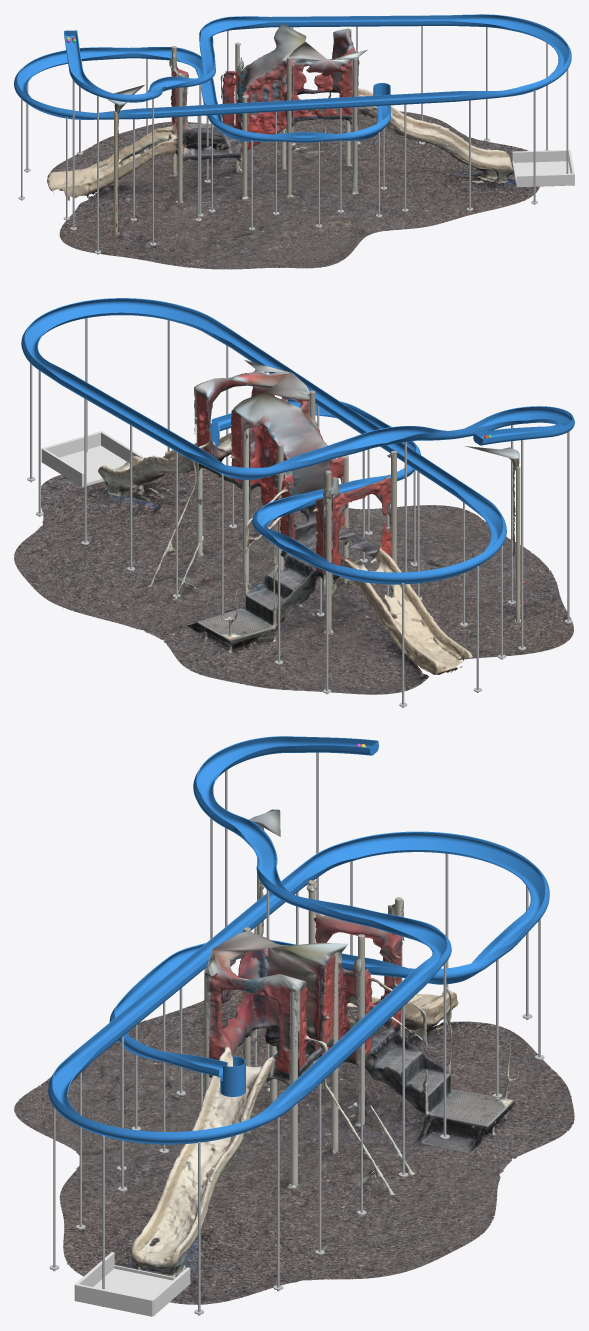
File: playground.glb
3 renders of one model, top to bottom at view 1: azimuth 30°, elevation 25°; view 2: azimuth 150°, elevation 25°; view 3: azimuth 270°, elevation 25°, orthographic. The views are drawn at different scales.
Visible parts, largest first — view 1: SM_Ground_LOD0, SM_PlayStructure_LOD0, SM_MarbleTrack_LOD0, SM_MarbleSupports, SM_MarbleFinishTray; view 2: SM_Ground_LOD0, SM_PlayStructure_LOD0, SM_MarbleTrack_LOD0, SM_MarbleSupports, SM_MarbleFinishTray; view 3: SM_Ground_LOD0, SM_PlayStructure_LOD0, SM_MarbleTrack_LOD0, SM_MarbleSupports, SM_MarbleFinishTray, SM_MarbleDropWell.
Part boxes in pixels (bbox=[...]): SM_Ground_LOD0: bbox=[50, 111, 539, 269]; SM_PlayStructure_LOD0: bbox=[47, 23, 514, 262]; SM_MarbleTrack_LOD0: bbox=[14, 14, 571, 142]; SM_MarbleSupports: bbox=[18, 26, 568, 254]; SM_MarbleFinishTray: bbox=[512, 149, 574, 187]; SM_Ground_LOD0: bbox=[14, 459, 573, 694]; SM_PlayStructure_LOD0: bbox=[63, 360, 540, 674]; SM_MarbleTrack_LOD0: bbox=[21, 298, 574, 584]; SM_MarbleSupports: bbox=[27, 318, 572, 707]; SM_MarbleFinishTray: bbox=[41, 431, 142, 487]; SM_Ground_LOD0: bbox=[14, 990, 574, 1304]; SM_PlayStructure_LOD0: bbox=[75, 809, 518, 1269]; SM_MarbleTrack_LOD0: bbox=[48, 736, 549, 1144]; SM_MarbleSupports: bbox=[49, 752, 544, 1315]; SM_MarbleFinishTray: bbox=[74, 1252, 190, 1316]; SM_MarbleDropWell: bbox=[220, 1056, 245, 1096].
Bounding box in the file's own units: 13.21 × 5.03 × 9.36.
9 materials, 2 textured.
